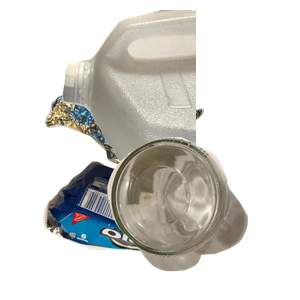glass: (105, 135, 300, 300)
metal: (42, 72, 239, 229)
plastic: (60, 10, 300, 190)
trash: (40, 158, 245, 300)
